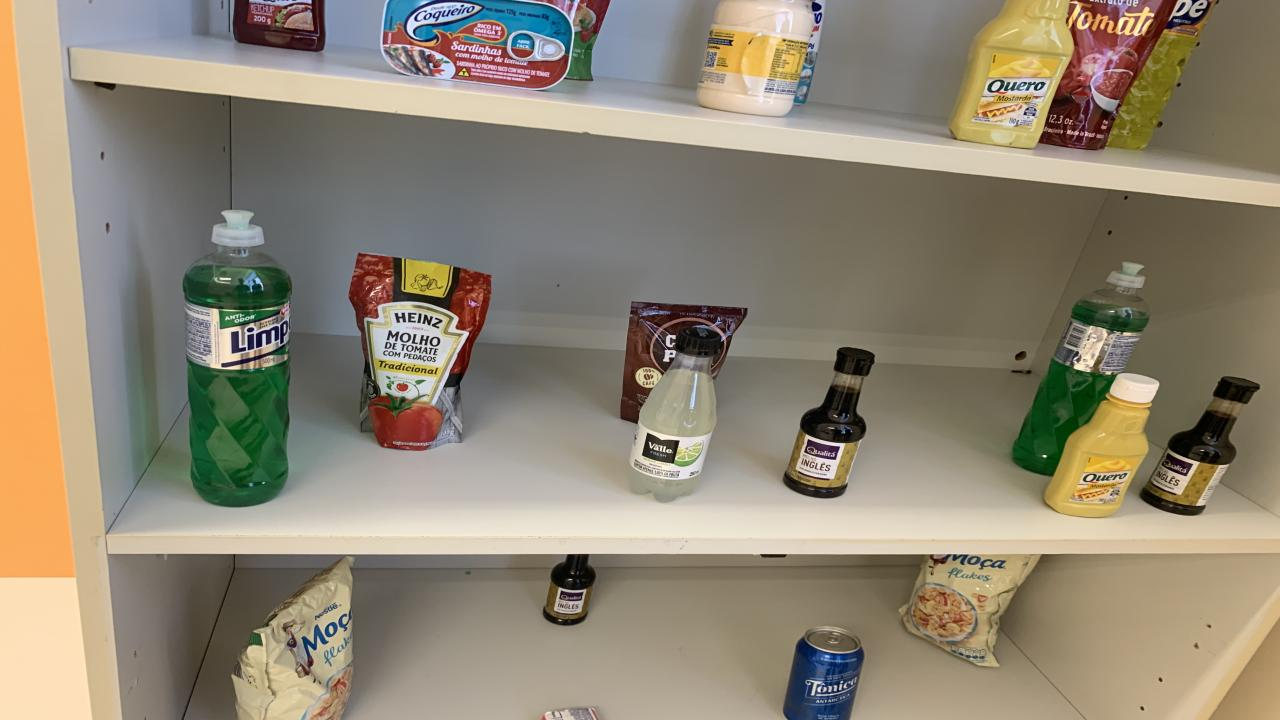Coffee-Pantry_Items: (620, 302, 748, 422)
Detergent-Cleanup_Items: (182, 210, 292, 506), (1012, 262, 1150, 474), (1108, 0, 1218, 150)
English_Sauce-Pantry_Items: (1140, 377, 1258, 516), (782, 347, 875, 497), (542, 555, 595, 626)
Flakes-Snacks: (230, 557, 352, 720), (900, 555, 1040, 668)
Ketchup-Pantry_Items: (232, 0, 325, 51)
Mayonnaise-Pantry_Items: (698, 0, 812, 116)
Mustard-Pantry_Items: (950, 0, 1072, 148), (1045, 373, 1158, 518)
Soda-Drinks: (628, 326, 722, 502)
Tomato_Sauce-Pantry_Items: (350, 253, 490, 450), (1040, 0, 1175, 150), (565, 0, 610, 81), (545, 0, 570, 8)
Tonic-Drinks: (782, 626, 865, 720)
Tuna_Can-Pantry_Items: (380, 0, 572, 90)
